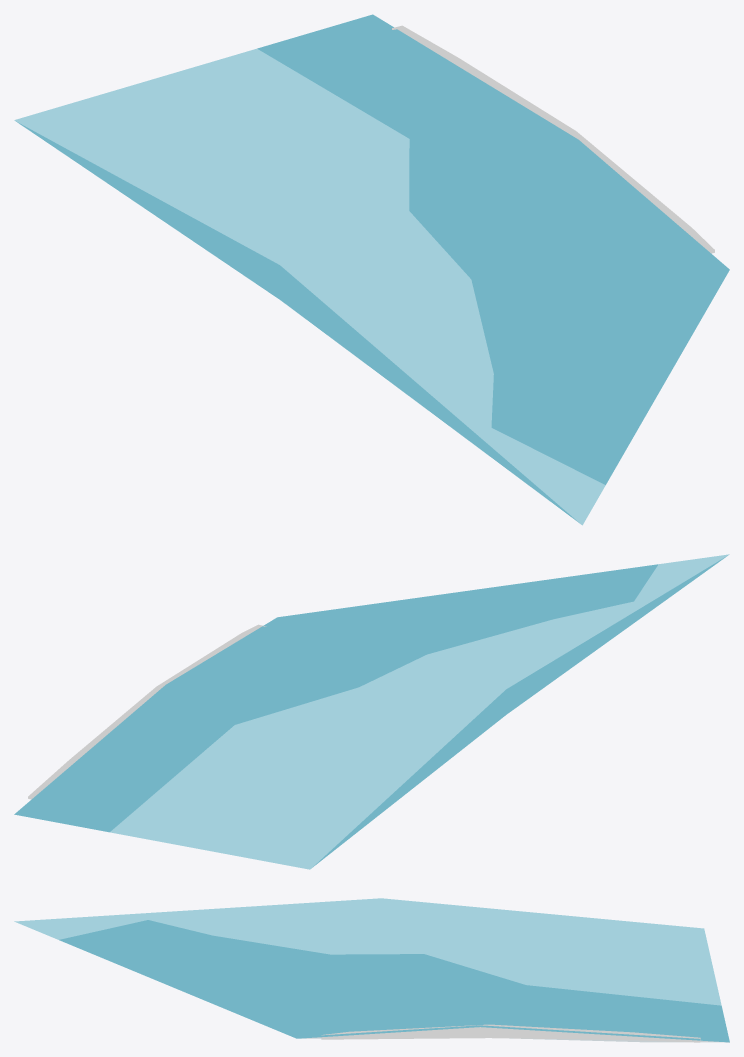
Rendered from su33_surf_elevatorLeft.gltf.
The picture shows the model from 3 angles, top to bottom: view 1: azimuth 30°, elevation 25°; view 2: azimuth 150°, elevation 25°; view 3: azimuth 270°, elevation 25°; orthographic projection. The views are drawn at different scales.
Visible parts, largest first — view 1: 0_0_#3396bb, 0_1_#73cdec, 0_3_#c6c7c6; view 2: 0_1_#73cdec, 0_0_#3396bb, 0_3_#c6c7c6; view 3: 0_0_#3396bb, 0_1_#73cdec, 0_3_#c6c7c6, 0_2_#bacdd8.
Boxes of the visible parts, x1,y1,x2,y2 form: 0_0_#3396bb: (16,14,729,523); 0_1_#73cdec: (14,48,605,525); 0_3_#c6c7c6: (392,25,714,253); 0_1_#73cdec: (110,554,729,869); 0_0_#3396bb: (14,555,727,868); 0_3_#c6c7c6: (28,624,266,799); 0_0_#3396bb: (59,920,729,1042); 0_1_#73cdec: (14,898,721,1005); 0_3_#c6c7c6: (321,1024,700,1042); 0_2_#bacdd8: (302,1037,729,1042).
Bounding box in the file's own units: 1.29 × 0.1669 × 3.41.
